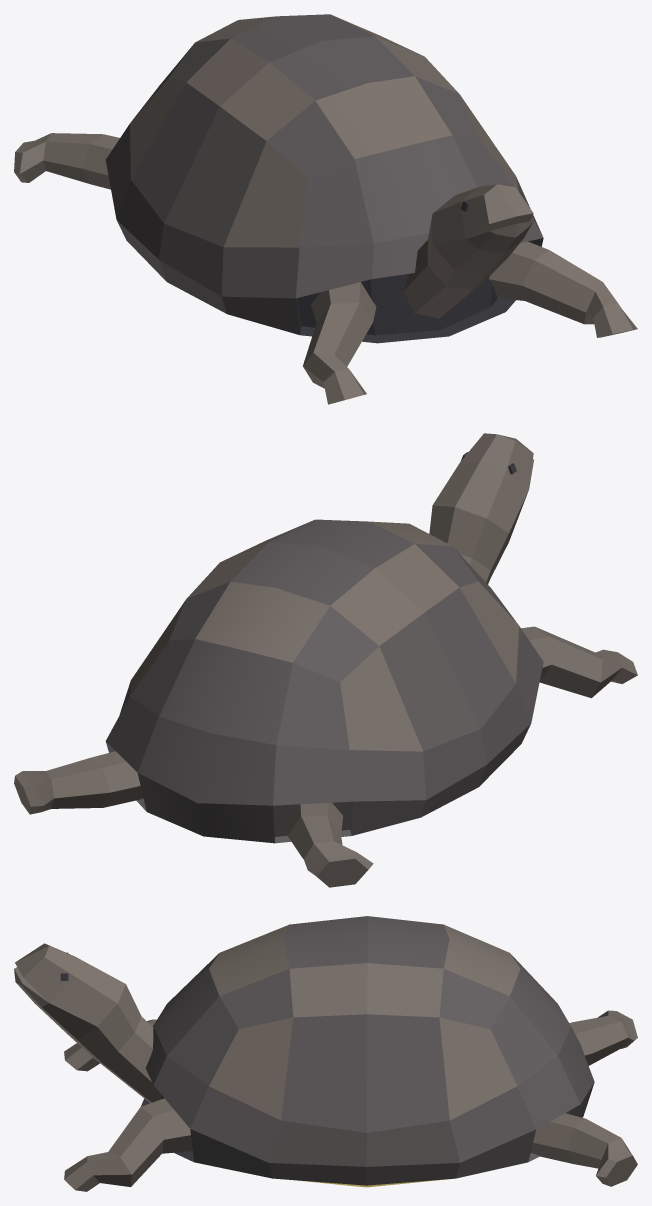
File: Turtle.glb
The picture shows the model from 3 angles, top to bottom: view 1: azimuth 30°, elevation 25°; view 2: azimuth 150°, elevation 25°; view 3: azimuth 270°, elevation 25°; orthographic projection. The views are drawn at different scales.
Parts seen in each view (by area): view 1: Mesh_Turtle; view 2: Mesh_Turtle; view 3: Mesh_Turtle.
Boxes of the visible parts, x1,y1,x2,y2 form: Mesh_Turtle: (14, 14, 637, 404); Mesh_Turtle: (14, 433, 637, 887); Mesh_Turtle: (14, 916, 637, 1191).
Bounding box in the file's own units: 32.02 × 19.87 × 53.67.
1 material, 1 textured.
